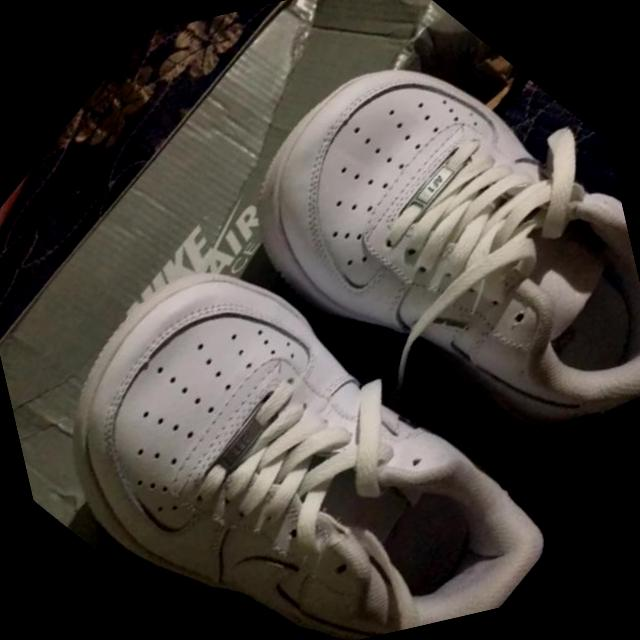nike_fake_airforce: (0, 136, 602, 640), (169, 0, 640, 580)
